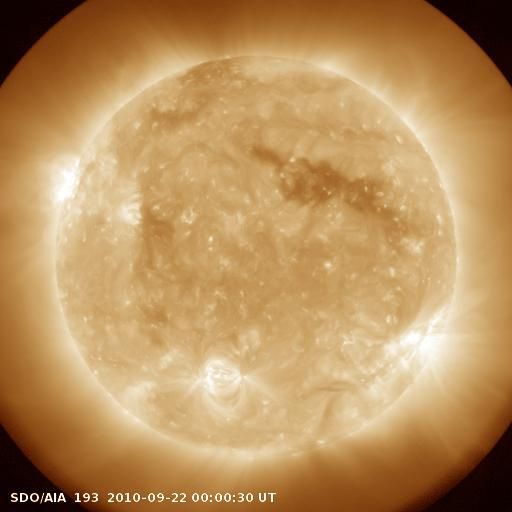coronal_hole: (250, 145, 396, 217)
